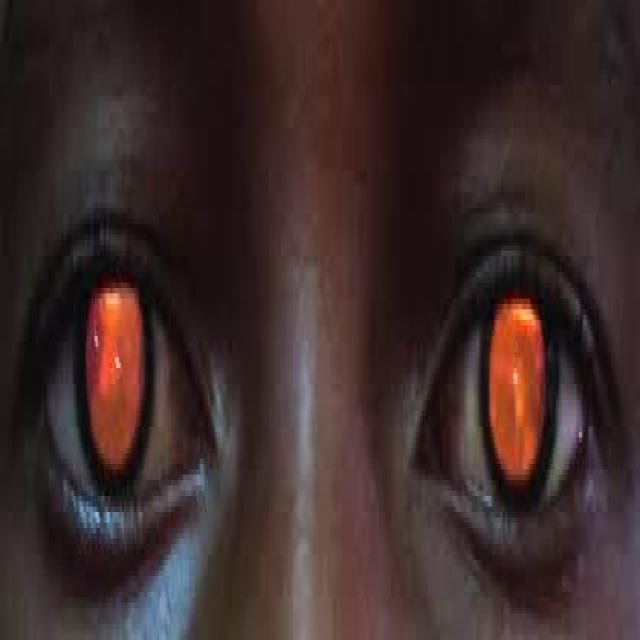reflexo-normal: (68, 211, 168, 543), (469, 203, 565, 544)
